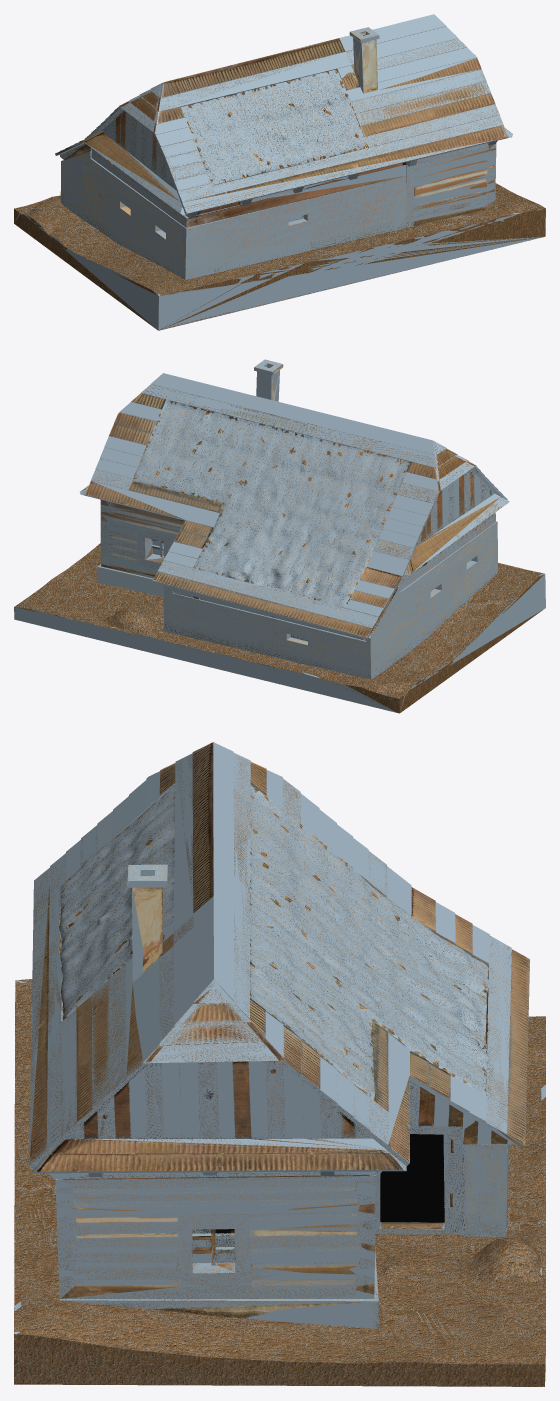
Rendered from hlinsko.obj.
3 renders of one model, top to bottom at view 1: azimuth 30°, elevation 25°; view 2: azimuth 150°, elevation 25°; view 3: azimuth 270°, elevation 25°, orthographic. The views are drawn at different scales.
Visible parts, largest first — view 1: Mesh6 Model, Mesh1 Group1 Model, Mesh4 Group4 Model; view 2: Mesh6 Model, Mesh5 Group5 Model, Mesh1 Group1 Model; view 3: Mesh6 Model, Mesh1 Group1 Model, Mesh5 Group5 Model, Mesh4 Group4 Model.
Boxes of the visible parts, left/top/right/bottom form: Mesh6 Model: left=55, top=14, right=512, bottom=279; Mesh1 Group1 Model: left=14, top=183, right=545, bottom=330; Mesh4 Group4 Model: left=181, top=69, right=368, bottom=185; Mesh6 Model: left=80, top=359, right=509, bottom=679; Mesh5 Group5 Model: left=132, top=399, right=410, bottom=607; Mesh1 Group1 Model: left=14, top=543, right=545, bottom=713; Mesh6 Model: left=29, top=742, right=529, bottom=1328; Mesh1 Group1 Model: left=14, top=979, right=545, bottom=1386; Mesh5 Group5 Model: left=250, top=784, right=490, bottom=1100; Mesh4 Group4 Model: left=59, top=783, right=175, bottom=1021.
Bounding box in the file's own units: 404 × 209 × 263.
